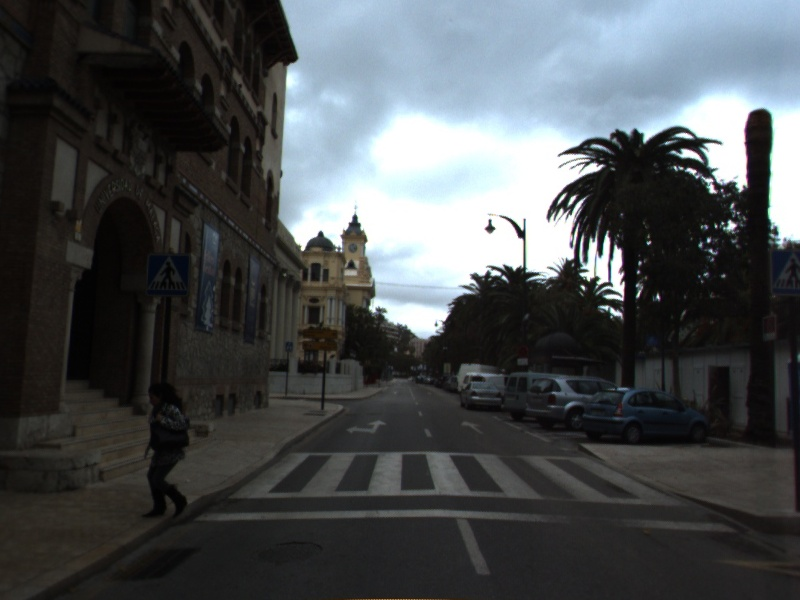STRAIGHT: (458, 418, 486, 436)
STRAIGHT_LEFT: (344, 418, 389, 435)
